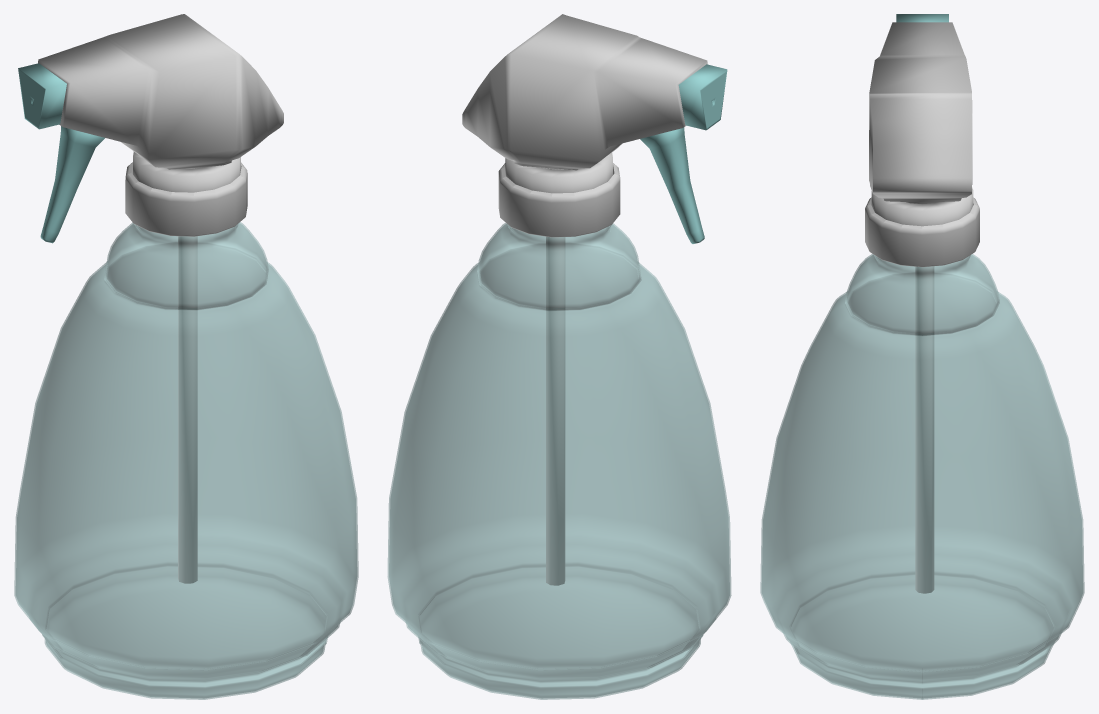
Rendered from spraybottle_generic.fbx.
3 renders of one model, left to right at view 1: azimuth 30°, elevation 25°; view 2: azimuth 150°, elevation 25°; view 3: azimuth 270°, elevation 25°, orthographic. The views are drawn at different scales.
Visible parts, largest first — view 1: Spraybottle_generic_Exterior, Spraybottle_Generic_Interior, Spraybottle_Cap, spray_bottle_straw, Spraybottle_TwistCap_interior, Spraybottle_Handle, Spraybottle_Nozzle; view 2: Spraybottle_generic_Exterior, Spraybottle_Generic_Interior, Spraybottle_Cap, spray_bottle_straw, Spraybottle_TwistCap_interior, Spraybottle_Handle, Spraybottle_Nozzle; view 3: Spraybottle_generic_Exterior, Spraybottle_Generic_Interior, Spraybottle_Cap, spray_bottle_straw, Spraybottle_TwistCap_interior.
Part boxes in pixels (x1,y1,x2,y2): Spraybottle_generic_Exterior: [14, 222, 358, 699]; Spraybottle_Generic_Interior: [16, 223, 356, 698]; Spraybottle_Cap: [38, 14, 283, 192]; spray_bottle_straw: [178, 168, 197, 583]; Spraybottle_TwistCap_interior: [125, 162, 247, 236]; Spraybottle_Handle: [40, 126, 104, 243]; Spraybottle_Nozzle: [18, 63, 66, 129]; Spraybottle_generic_Exterior: [387, 223, 731, 699]; Spraybottle_Generic_Interior: [389, 224, 729, 698]; Spraybottle_Cap: [462, 14, 707, 193]; spray_bottle_straw: [546, 168, 565, 585]; Spraybottle_TwistCap_interior: [498, 163, 620, 237]; Spraybottle_Handle: [640, 127, 704, 243]; Spraybottle_Nozzle: [678, 64, 727, 130]; Spraybottle_generic_Exterior: [760, 254, 1084, 699]; Spraybottle_Generic_Interior: [762, 255, 1082, 698]; Spraybottle_Cap: [869, 22, 973, 226]; spray_bottle_straw: [915, 266, 934, 593]; Spraybottle_TwistCap_interior: [865, 197, 979, 267].
Size of the model in its own units: 0.3122 by 0.5929 by 0.3082.
